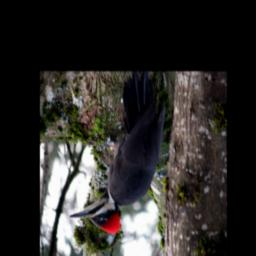Woodpecker: (68, 76, 170, 236)
